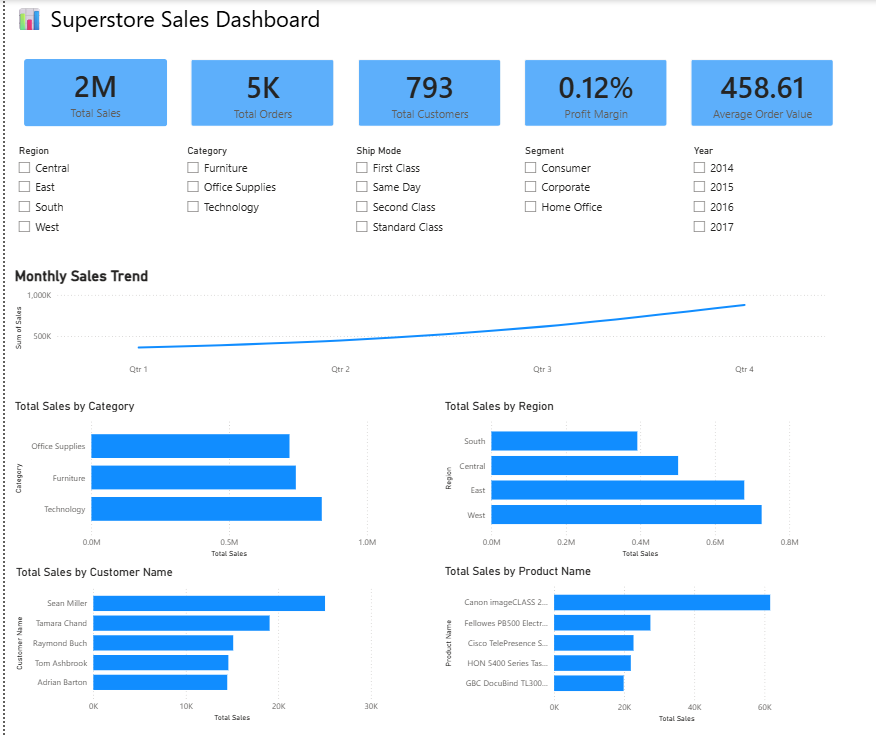

Layout of this report page (visuals, bound fields, positions):
{"tool":"powerbi","page":{"name":"Page 2","canvas":[1280,1080],"ordinal":1},"visuals":[{"type":"textbox","box":[9.6,0,1219.9,61.7],"z":0},{"type":"cardVisual","title":"1.1 Card","fields":{"Data":["Superstore_updated.Total Sales"]},"box":[11,69.7,244.3,133.1],"z":1000,"group":"g1"},{"type":"slicer","fields":{"Values":["Superstore_updated.Region"]},"box":[7.3,208,207.3,148.6],"z":1000},{"type":"cardVisual","fields":{"Data":["Superstore_updated.Total Customers"]},"box":[500.9,69.7,244.3,133.1],"z":2000,"group":"g1"},{"type":"lineChart","title":"Monthly Sales Trend","fields":{"Y":["Sum(Superstore_updated.Sales)"],"Category":["Superstore_updated.Order Date.Variation.Date Hierarchy.Year","Superstore_updated.Order Date.Variation.Date Hierarchy.Quarter","Superstore_updated.Order Date.Variation.Date Hierarchy.Month","Superstore_updated.Order Date.Variation.Date Hierarchy.Day"]},"box":[9.2,392.5,1199.6,166.9],"z":2000},{"type":"cardVisual","fields":{"Data":["Superstore_updated.Total Orders"]},"box":[255.3,69.7,245.6,133.1],"z":3000,"group":"g1"},{"type":"slicer","fields":{"Values":["Superstore_updated.Ship Mode"]},"box":[502.8,208,207.3,148.6],"z":3000},{"type":"cardVisual","fields":{"Data":["Superstore_updated.Profit Margin"]},"box":[745.1,69.7,244.3,133.1],"z":4000,"group":"g1"},{"type":"slicer","fields":{"Values":["Superstore_updated.Category"]},"box":[255.1,208,207.3,148.6],"z":4000},{"type":"group","id":"g1","title":"Group 2","box":[11,69.7,1223.4,132.1],"z":5000},{"type":"cardVisual","fields":{"Data":["Date.Average Order Value"]},"box":[989.4,69.7,244.3,133.1],"z":5000,"group":"g1"},{"type":"slicer","fields":{"Values":["Superstore_updated.Segment"]},"box":[750.5,208,207.3,148.6],"z":6000},{"type":"slicer","fields":{"Values":["Date.Year"]},"box":[998.2,208,207.3,148.6],"z":7000},{"type":"barChart","fields":{"Category":["Superstore_updated.Category"],"Y":["Superstore_updated.Total Sales"]},"box":[9.2,585.1,541.1,238.5],"z":8000},{"type":"barChart","fields":{"Category":["Superstore_updated.Region"],"Y":["Superstore_updated.Total Sales"]},"box":[640.2,585.1,530.1,238.5],"z":9000},{"type":"clusteredBarChart","fields":{"Category":["Superstore_updated.Customer Name"],"Y":["Superstore_updated.Total Sales"]},"box":[11,829.1,541.1,234.8],"z":10000},{"type":"clusteredBarChart","fields":{"Y":["Superstore_updated.Total Sales"],"Category":["Superstore_updated.Product Name"]},"box":[640.2,827.2,541.1,238.5],"z":11000}]}

Visuals, with their boxes in screenshot pixels (x1, y1, x2, y2), scaled from the page's 1280x1080 canvas onto the 876x735 screenshot:
textbox: rect(7, 0, 841, 42)
"1.1 Card" cardVisual: rect(8, 47, 175, 138)
slicer - Superstore_updated.Region: rect(5, 142, 147, 243)
cardVisual - Superstore_updated.Total Customers: rect(343, 47, 510, 138)
"Monthly Sales Trend" lineChart: rect(6, 267, 827, 381)
cardVisual - Superstore_updated.Total Orders: rect(175, 47, 343, 138)
slicer - Superstore_updated.Ship Mode: rect(344, 142, 486, 243)
cardVisual - Superstore_updated.Profit Margin: rect(510, 47, 677, 138)
slicer - Superstore_updated.Category: rect(175, 142, 316, 243)
"Group 2" group: rect(8, 47, 845, 137)
cardVisual - Date.Average Order Value: rect(677, 47, 844, 138)
slicer - Superstore_updated.Segment: rect(514, 142, 655, 243)
slicer - Date.Year: rect(683, 142, 825, 243)
barChart - Superstore_updated.Category x Superstore_updated.Total Sales: rect(6, 398, 377, 561)
barChart - Superstore_updated.Region x Superstore_updated.Total Sales: rect(438, 398, 801, 561)
clusteredBarChart - Superstore_updated.Customer Name x Superstore_updated.Total Sales: rect(8, 564, 378, 724)
clusteredBarChart - Superstore_updated.Total Sales x Superstore_updated.Product Name: rect(438, 563, 808, 725)
